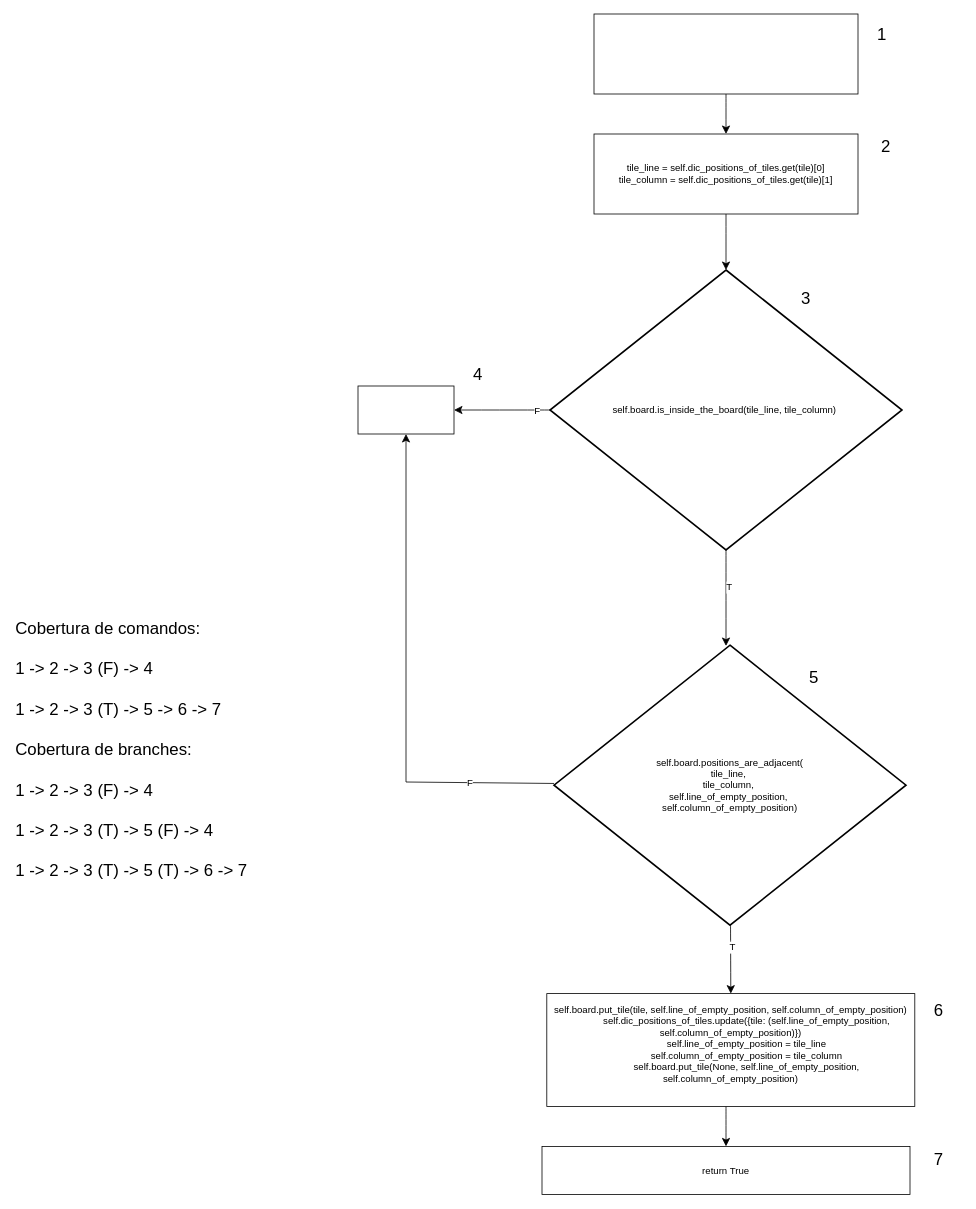
This 976x1209 diagram has some shape labels left out. The shapes that lost their labels are listed below. From the top down, each one's centre as x and y in pixels, then its label:
the point at 725,53: Initialize: self, tile
the point at 405,409: return False
